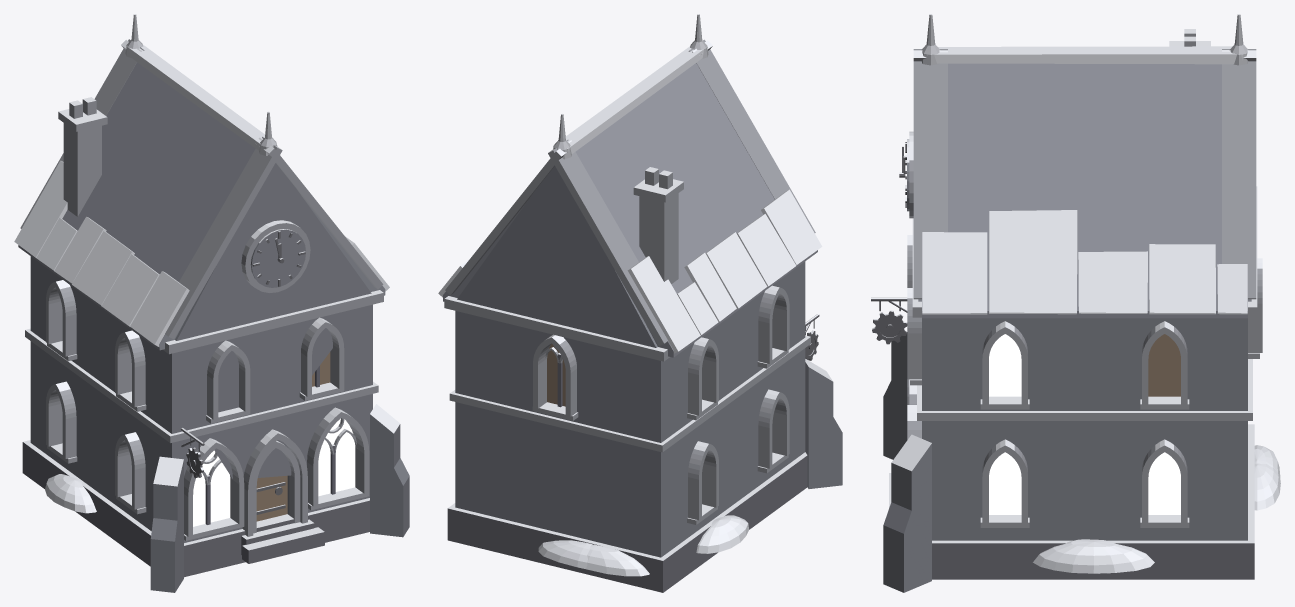
The model's file is AR_Casa_Relojoeiro.fbx.
The picture shows the model from 3 angles, left to right: view 1: azimuth 30°, elevation 25°; view 2: azimuth 150°, elevation 25°; view 3: azimuth 270°, elevation 25°; orthographic projection. The views are drawn at different scales.
Parts seen in each view (by area): view 1: AR_Casa_Relojoeiro; view 2: AR_Casa_Relojoeiro; view 3: AR_Casa_Relojoeiro.
Boxes of the visible parts, x1,y1,x2,y2 form: AR_Casa_Relojoeiro: [14, 14, 409, 592]; AR_Casa_Relojoeiro: [438, 14, 842, 592]; AR_Casa_Relojoeiro: [871, 14, 1280, 592].
Size of the model in its own units: 9.52 by 15.38 by 11.3.
